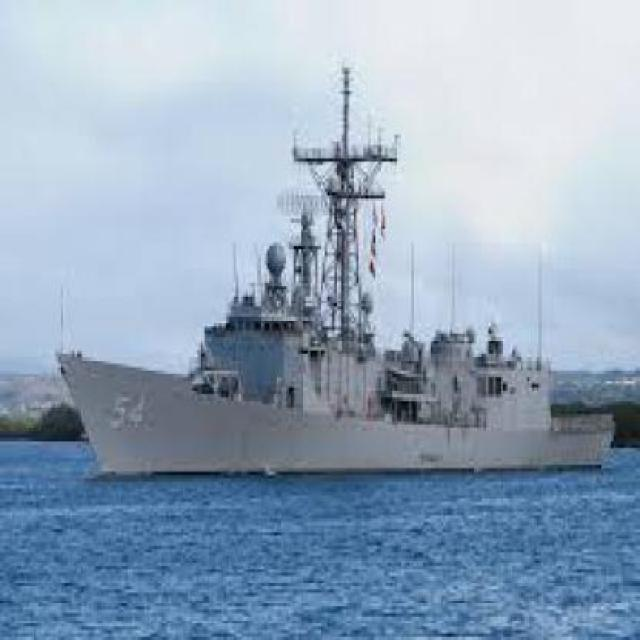warship2: (56, 58, 621, 516)
